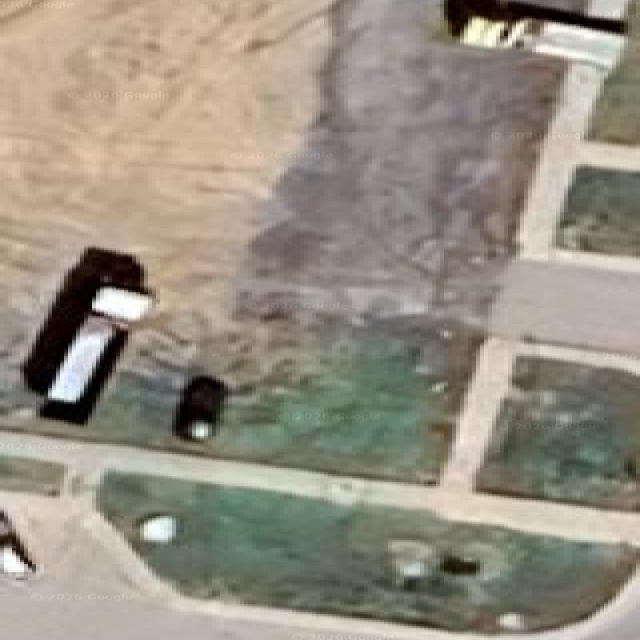car: (23, 247, 151, 423)
